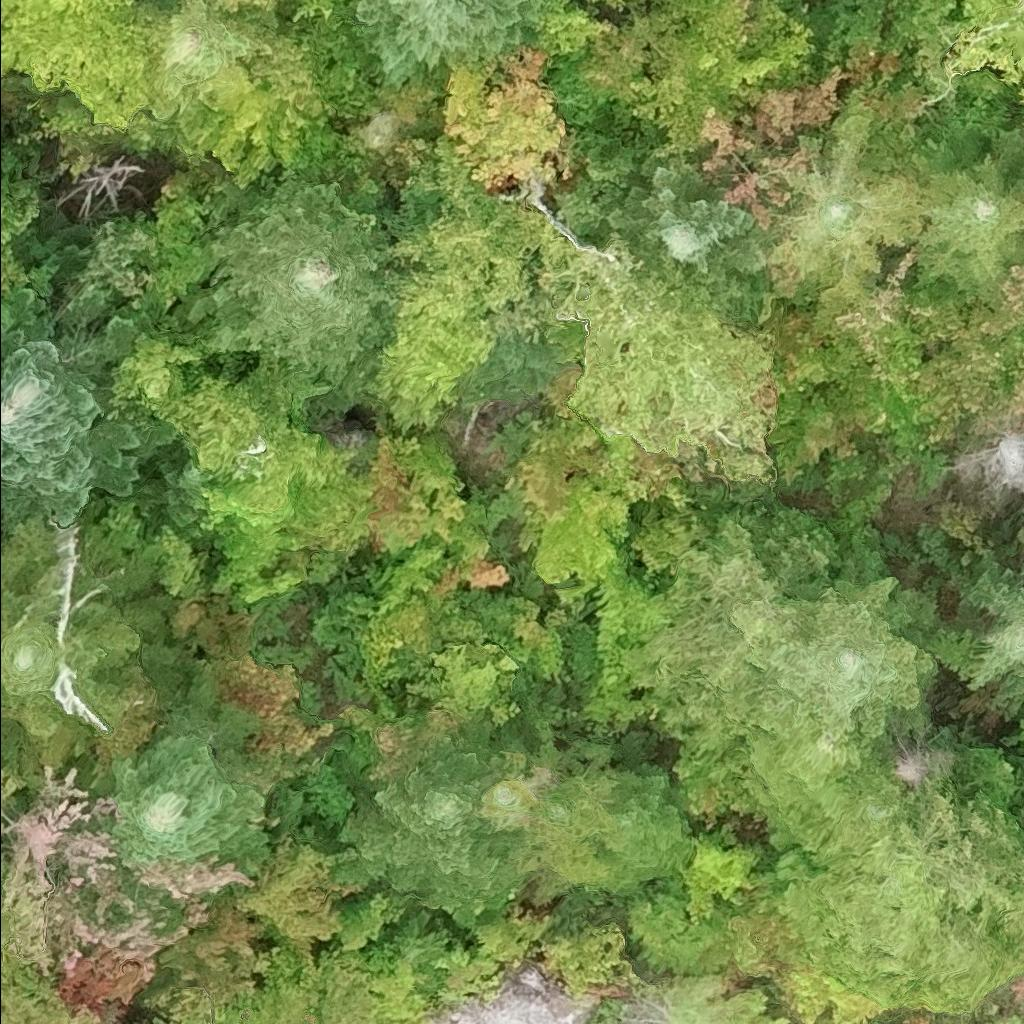crown: (540, 232, 773, 477), (780, 782, 1023, 1008), (0, 512, 173, 791), (626, 504, 831, 739), (96, 639, 288, 875), (210, 179, 400, 407), (334, 718, 535, 925), (0, 307, 173, 534), (777, 88, 938, 309), (584, 0, 819, 148), (588, 153, 773, 319), (751, 574, 934, 739), (382, 135, 549, 308), (694, 64, 849, 231), (0, 0, 179, 142), (363, 266, 494, 434), (912, 121, 1023, 306), (335, 0, 538, 89), (235, 830, 369, 964), (446, 43, 567, 190), (371, 497, 515, 614), (515, 737, 617, 900), (0, 884, 103, 1023), (203, 649, 331, 760), (527, 470, 642, 591), (434, 585, 575, 683), (597, 763, 693, 898), (955, 548, 1023, 719), (402, 636, 523, 731), (214, 78, 311, 188), (366, 433, 449, 561), (156, 0, 250, 111), (670, 829, 774, 925), (148, 176, 221, 299), (249, 35, 341, 129), (357, 591, 445, 686), (674, 730, 759, 827), (547, 920, 641, 996), (133, 435, 203, 536), (308, 12, 376, 114), (52, 151, 147, 219), (476, 752, 553, 834), (946, 28, 1023, 103), (0, 148, 40, 286), (956, 430, 1023, 507), (408, 436, 464, 524), (539, 0, 603, 55), (983, 267, 1023, 331), (1000, 862, 1023, 954), (207, 0, 281, 27), (288, 0, 336, 23), (1011, 355, 1023, 411), (589, 0, 625, 8), (1019, 525, 1023, 543)
